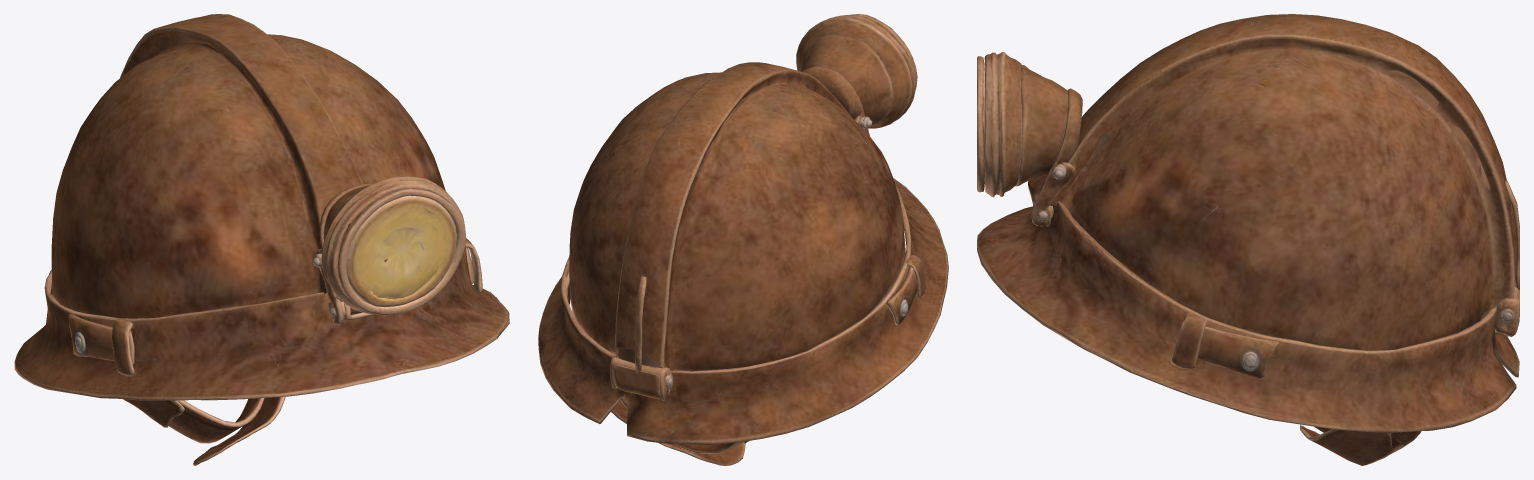
Rendered from miner_helmet.glb.
3 views of the same model, side by side, from view 1: azimuth 30°, elevation 25°; view 2: azimuth 150°, elevation 25°; view 3: azimuth 270°, elevation 25° (orthographic). The views are drawn at different scales.
Parts seen in each view (by area): view 1: 0; view 2: 0; view 3: 0.
Part boxes in pixels (x1,y1,x2,y2): 0: (14, 14, 509, 465); 0: (538, 14, 948, 465); 0: (977, 14, 1519, 465).
Bounding box in the file's own units: 0.6521 × 0.648 × 0.73.
1 material, 1 textured.
